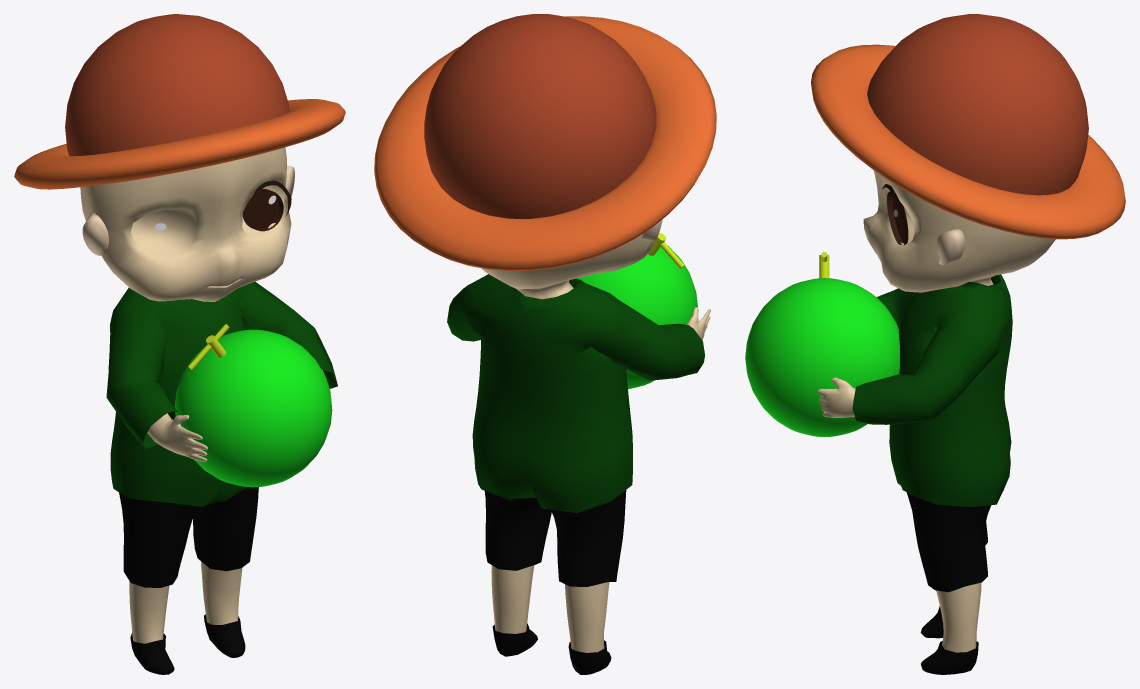
Rendered from prot.glb.
3 views of the same model, side by side, from view 1: azimuth 30°, elevation 25°; view 2: azimuth 150°, elevation 25°; view 3: azimuth 270°, elevation 25° (orthographic). The views are drawn at different scales.
Parts seen in each view (by area): view 1: Body; view 2: Body; view 3: Body.
Part boxes in pixels (box(x1,y1,x2,y2)): Body: box(14, 14, 345, 674); Body: box(374, 14, 716, 674); Body: box(745, 14, 1125, 674).
Size of the model in its own units: 0.4742 by 0.9649 by 0.5292.
